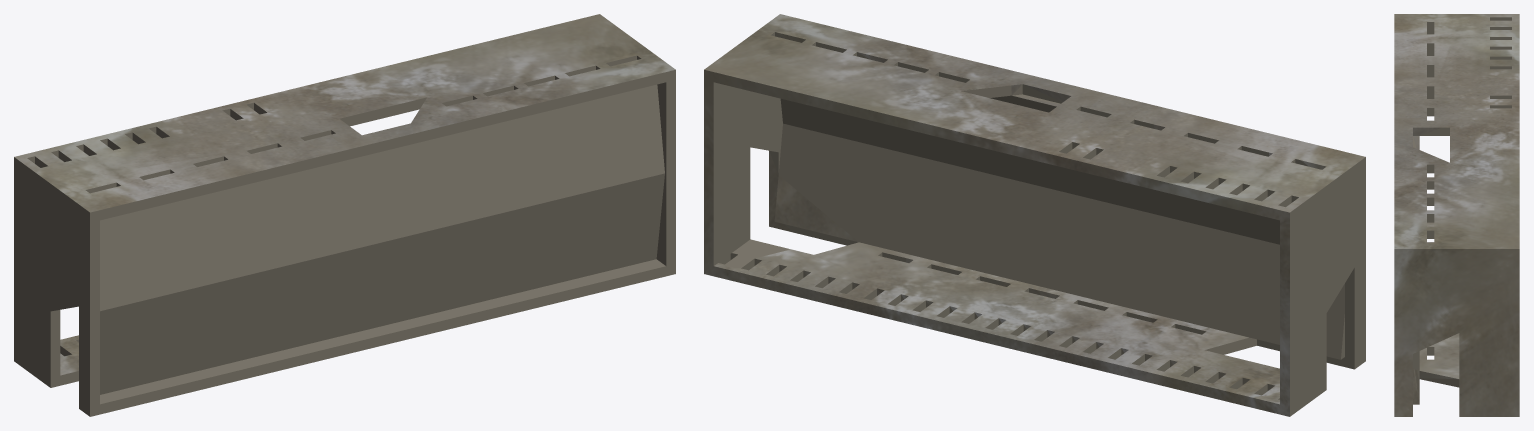
The model's file is main.obj.
The picture shows the model from 3 angles, left to right: view 1: azimuth 30°, elevation 25°; view 2: azimuth 150°, elevation 25°; view 3: azimuth 270°, elevation 25°; orthographic projection. The views are drawn at different scales.
Parts seen in each view (by area): view 1: main; view 2: main; view 3: main.
Part boxes in pixels (x1=…): main: x1=14, y1=14, x2=675, y2=416; main: x1=704, y1=14, x2=1365, y2=416; main: x1=1394, y1=14, x2=1519, y2=416.
Bounding box in the file's own units: 60 × 20 × 13.5.
Materials: 1 (1 with a texture image).
